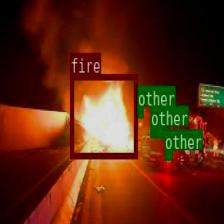fire: (69, 74, 136, 157)
